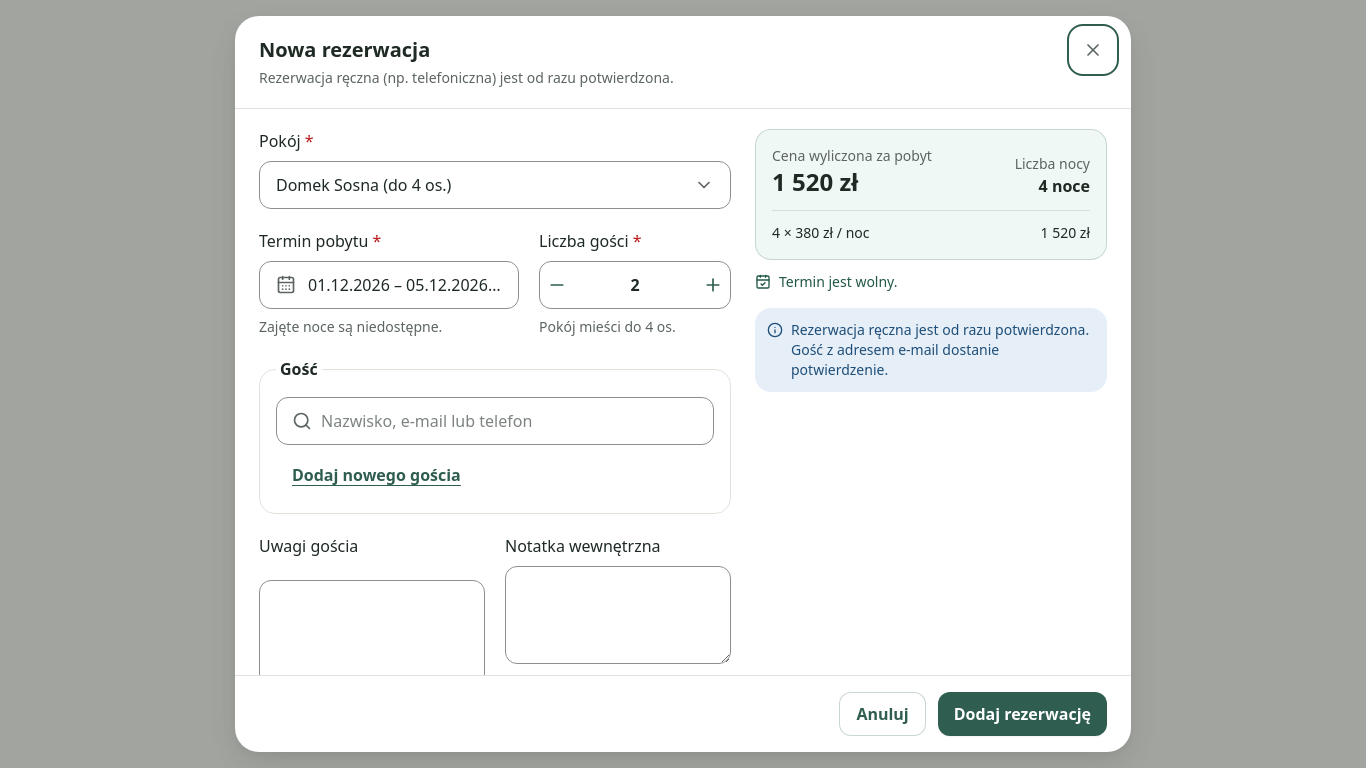
Test: ManualReservationDialog (O5) › shows the price from quote (BR-05) and creates a reservation for an existing guest
Check: the element "Cena wyliczona" reads "Cena wyliczona za pobyt 1 520 zł Liczba nocy 4 noce 4 × 380 zł / noc 1 520 zł", box [772,165,858,198]
Check: the element "Cena wyliczona" shows "4 noce", box [1039,175,1090,197]
Type "Kowal" into the dropdown named "Wyszukaj gościa" at (495, 421), box [276,397,714,445]
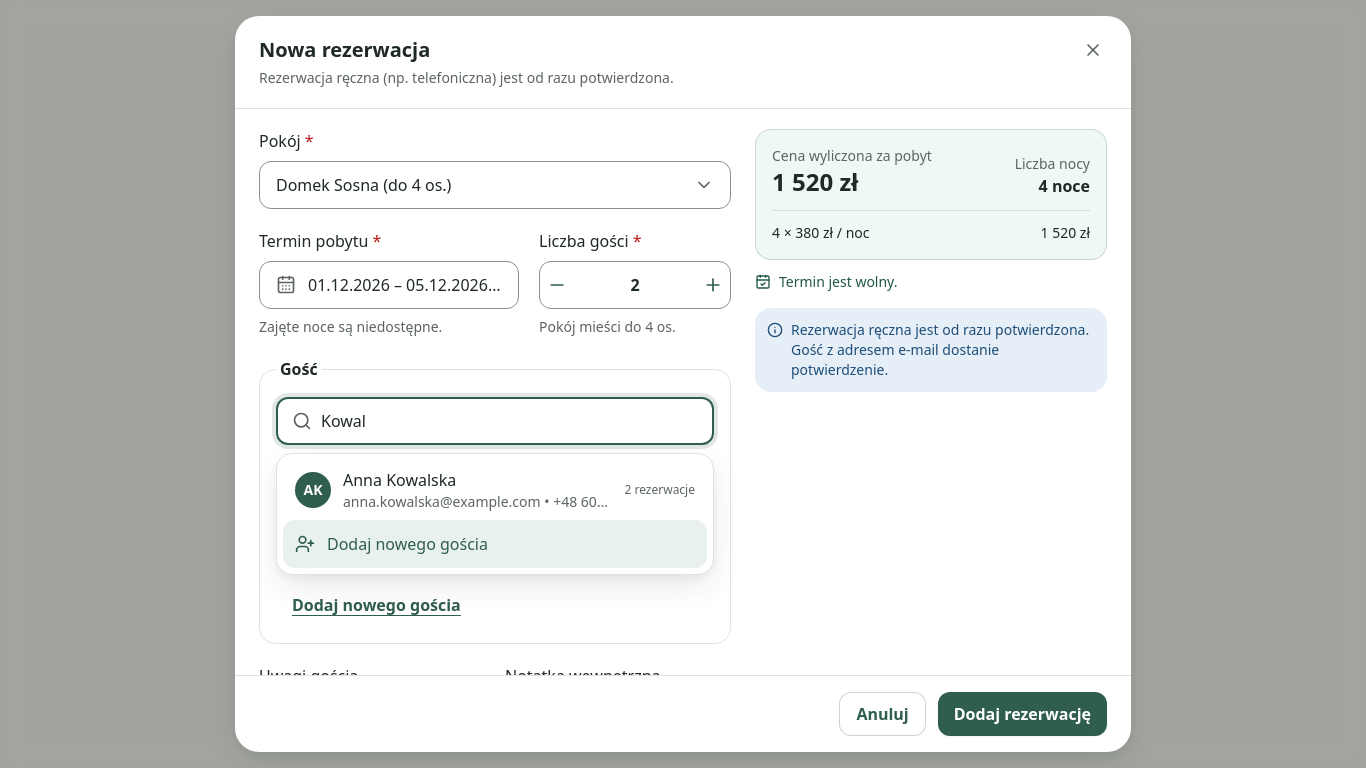
Click the option "Anna Kowalska" at (495, 490), box [283,460,707,520]
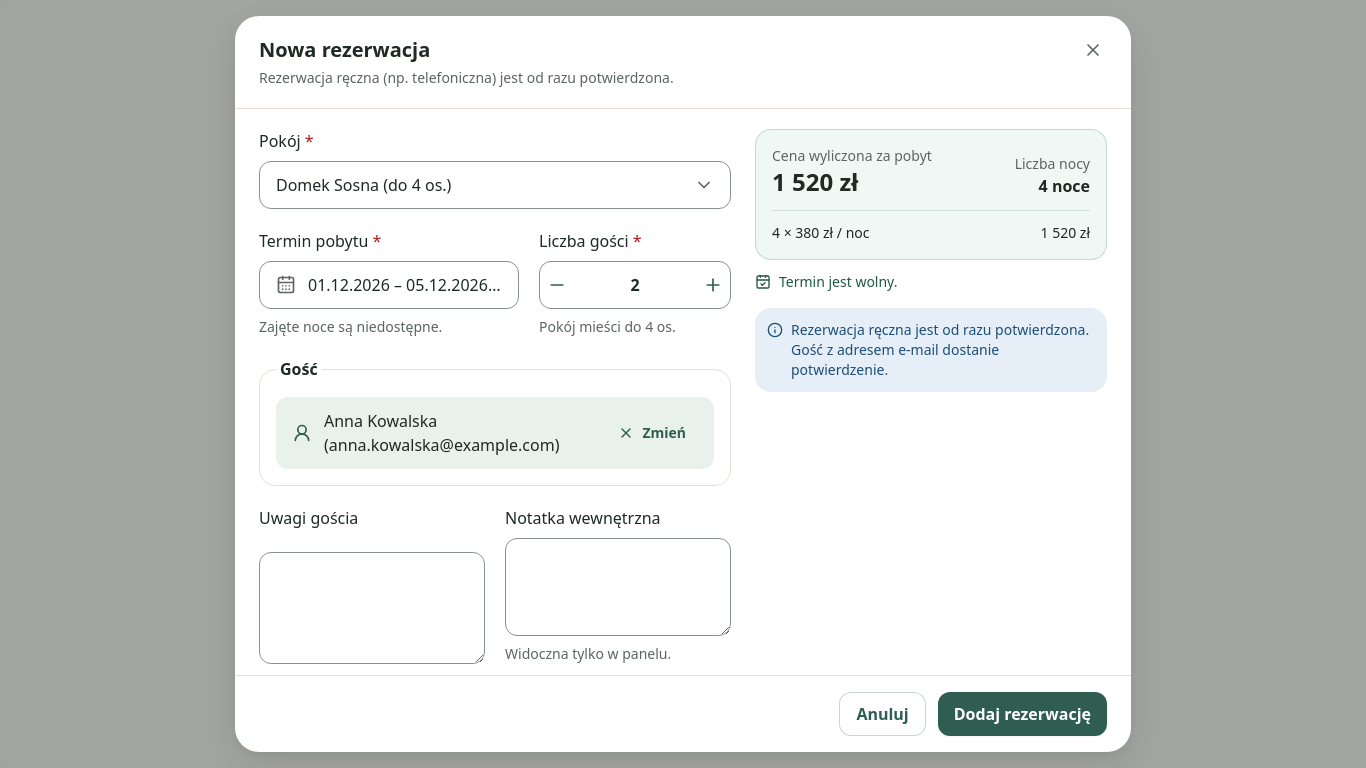
Check: the text "Anna Kowalska (anna.kowalska@example.com)" is shown, box [324,409,594,457]
Click the button "Dodaj rezerwację" at (1022, 714), box [938,692,1107,736]
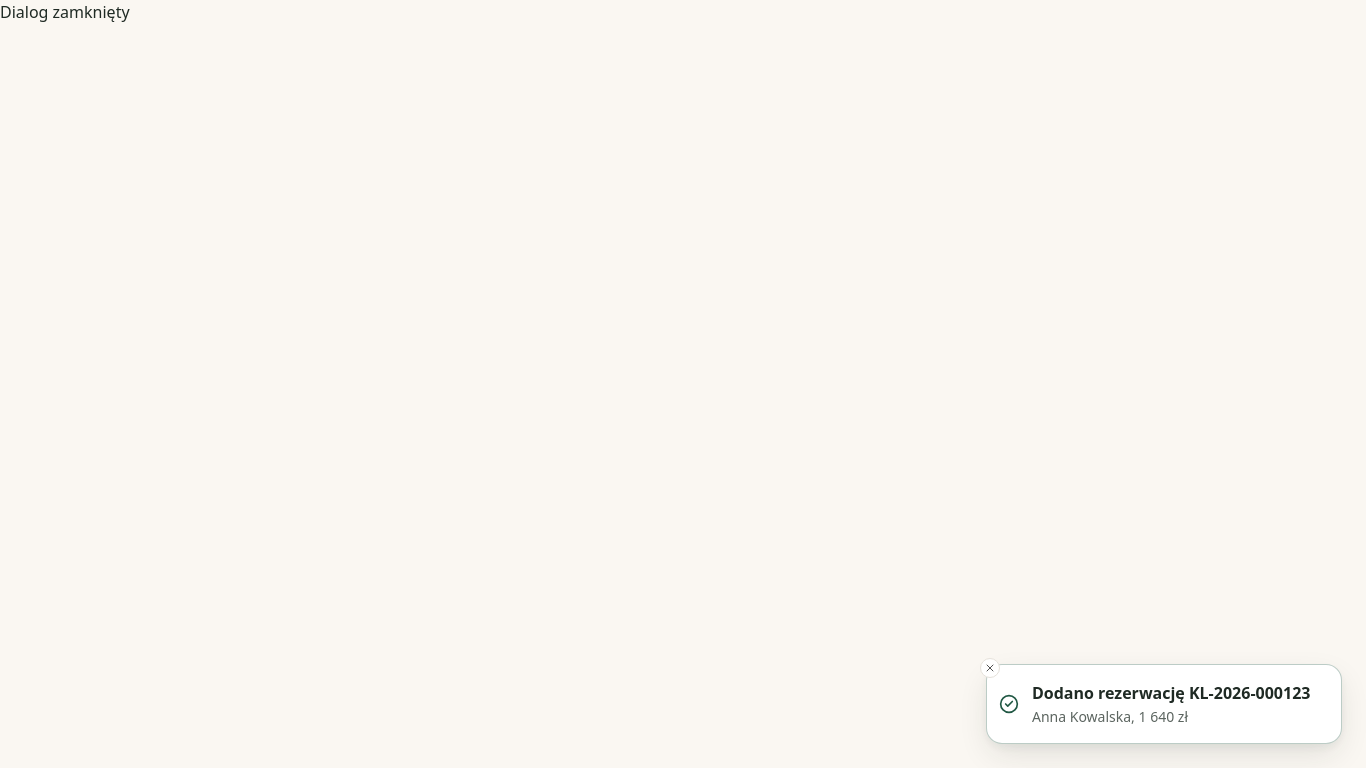
Check: the text "Dialog zamknięty" is shown, box [0,1,130,23]
